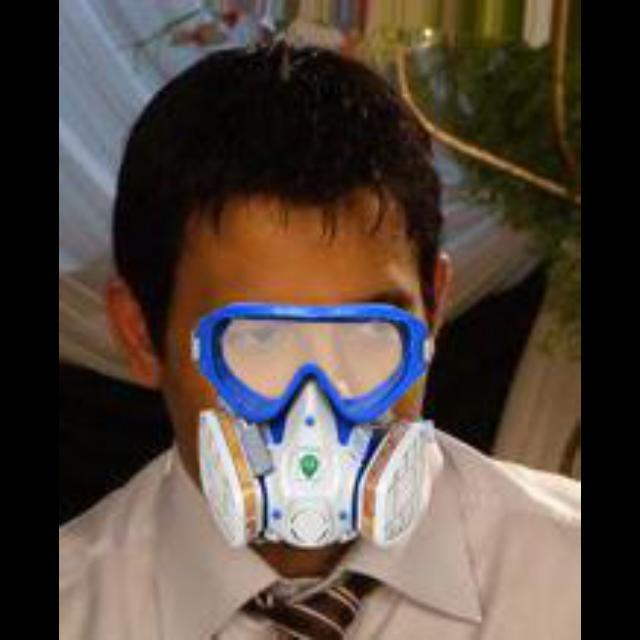suspicion: (90, 29, 492, 533)
